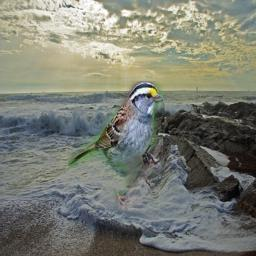Sparrow: (68, 81, 163, 211)
